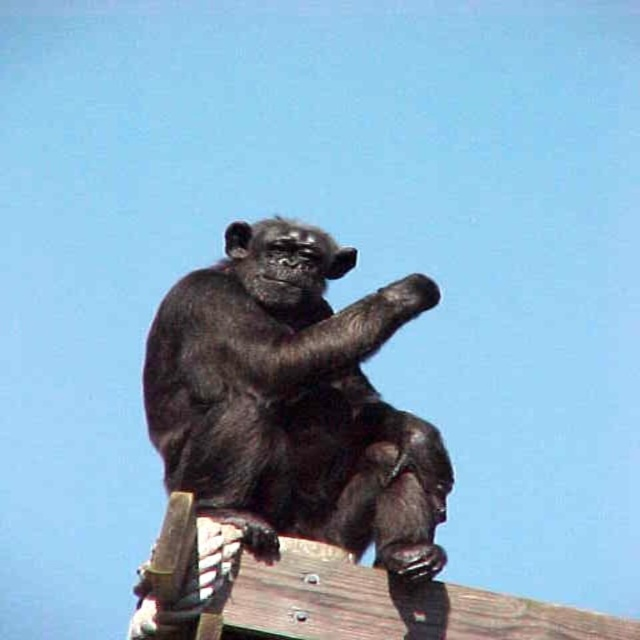Monkey: (141, 216, 455, 583)
